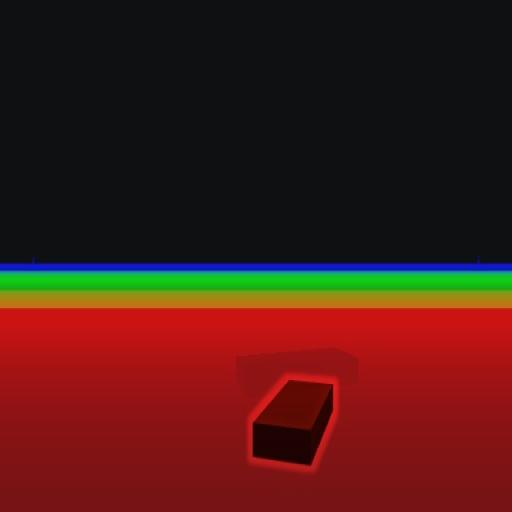debris_container: (250, 374, 338, 470)
